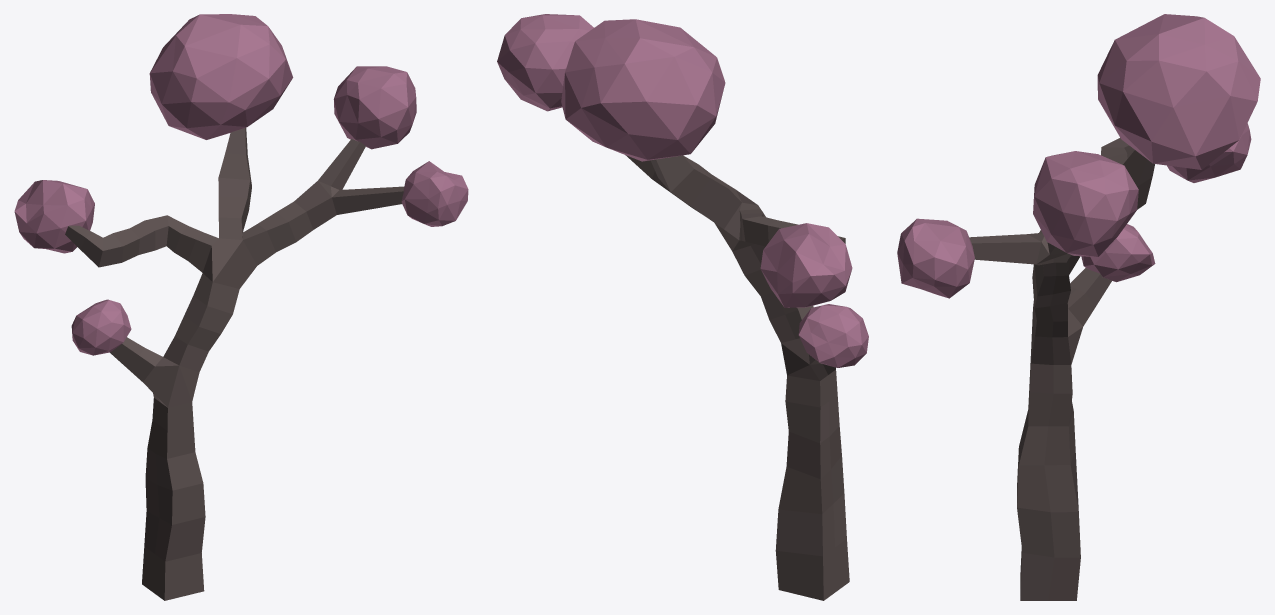
Rendered from tree2.fbx.
3 renders of one model, left to right at view 1: azimuth 30°, elevation 25°; view 2: azimuth 150°, elevation 25°; view 3: azimuth 270°, elevation 25°, orthographic. The views are drawn at different scales.
Parts seen in each view (by area): view 1: Plane, Icosphere.002, Icosphere.003, Icosphere.001, Icosphere.004, Icosphere; view 2: Plane, Icosphere.002, Icosphere.001, Icosphere.003, Icosphere; view 3: Plane, Icosphere.002, Icosphere.003, Icosphere.004, Icosphere, Icosphere.001.
Part boxes in pixels (bbox=[...]): Plane: bbox=[65, 127, 403, 600]; Icosphere.002: bbox=[149, 14, 293, 139]; Icosphere.003: bbox=[333, 66, 416, 149]; Icosphere.001: bbox=[14, 180, 94, 253]; Icosphere.004: bbox=[401, 161, 468, 226]; Icosphere: bbox=[71, 299, 131, 355]; Plane: bbox=[625, 155, 849, 600]; Icosphere.002: bbox=[561, 19, 725, 161]; Icosphere.001: bbox=[760, 223, 852, 307]; Icosphere.003: bbox=[497, 14, 593, 111]; Icosphere: bbox=[798, 304, 868, 367]; Plane: bbox=[969, 138, 1154, 600]; Icosphere.002: bbox=[1097, 14, 1260, 169]; Icosphere.003: bbox=[1033, 151, 1138, 256]; Icosphere.004: bbox=[897, 218, 974, 298]; Icosphere: bbox=[1081, 224, 1155, 282]; Icosphere.001: bbox=[1167, 123, 1251, 182].
Bounding box in the file's own units: 55.09 × 76.45 × 40.27.
